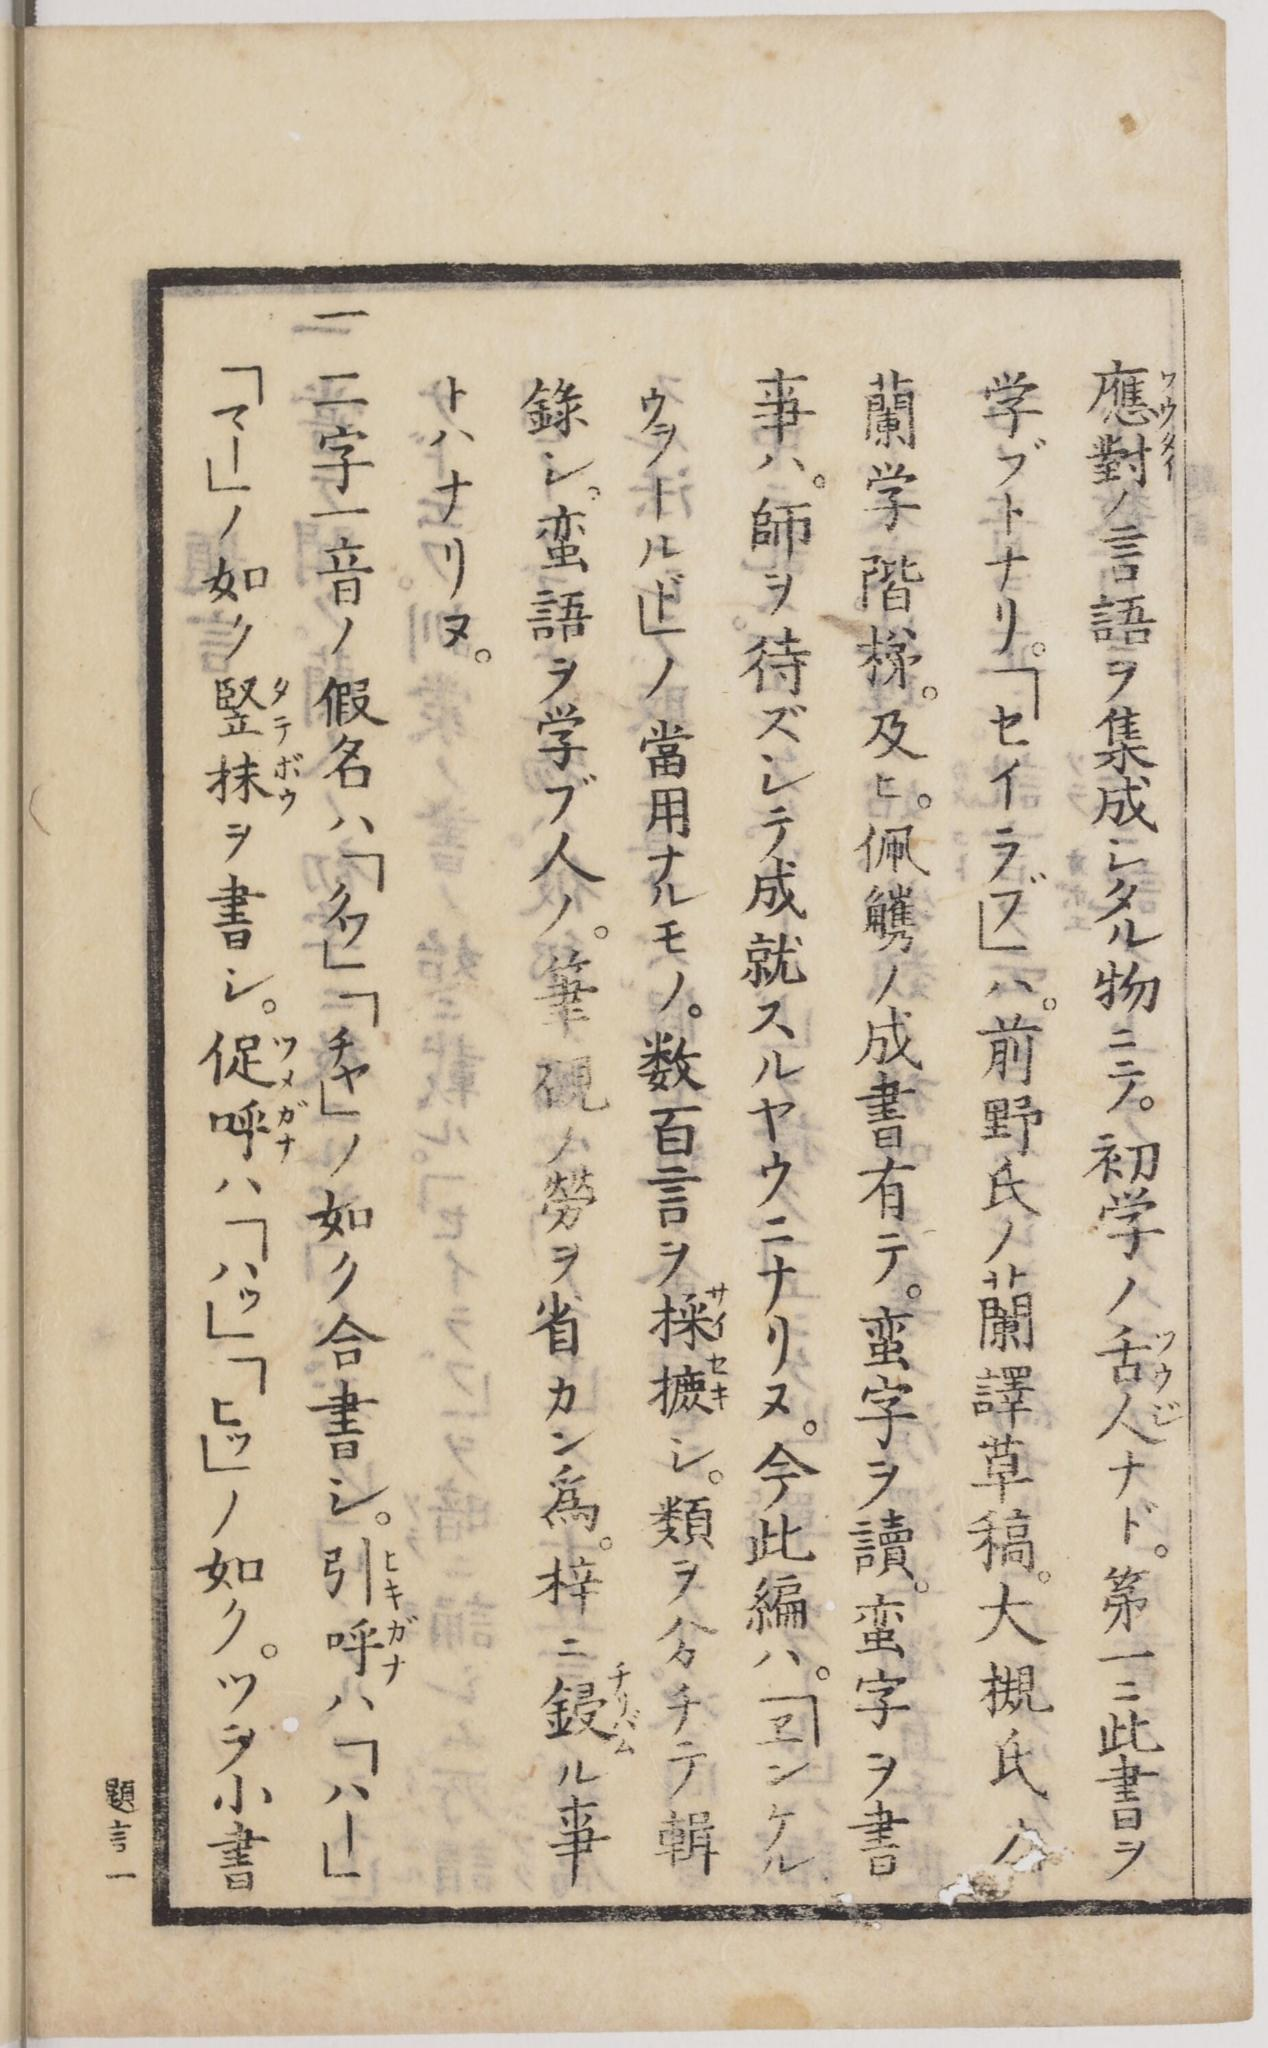MainZone-Character: (535, 1659, 646, 1763), (202, 1088, 313, 1167), (190, 1024, 309, 1093), (314, 1611, 418, 1685), (316, 1532, 414, 1606), (1082, 360, 1185, 429), (648, 1349, 737, 1425), (208, 746, 304, 815), (206, 670, 297, 743), (1087, 430, 1189, 490), (1091, 1325, 1186, 1388), (1094, 1391, 1190, 1453), (649, 1283, 733, 1350)
MainZone-Ruby: (607, 1657, 644, 1758), (275, 1096, 317, 1166), (383, 1609, 420, 1685), (269, 1025, 307, 1090), (702, 1350, 737, 1416), (272, 749, 307, 815), (269, 671, 298, 740), (1150, 1328, 1179, 1390), (702, 1280, 733, 1339), (377, 1545, 407, 1603), (1157, 430, 1185, 486), (1155, 367, 1183, 421), (1148, 1396, 1188, 1426)
